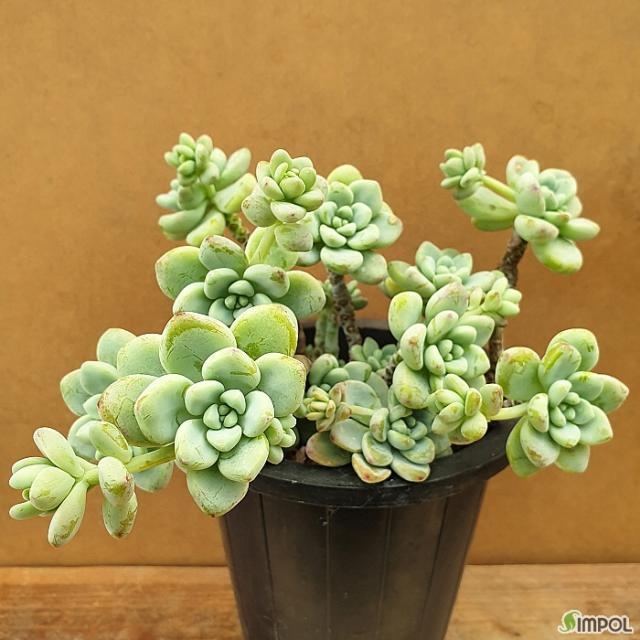LumiRose: (138, 303, 309, 520), (498, 329, 628, 481), (455, 151, 602, 274), (386, 283, 496, 409), (301, 166, 402, 284), (245, 147, 331, 250)
